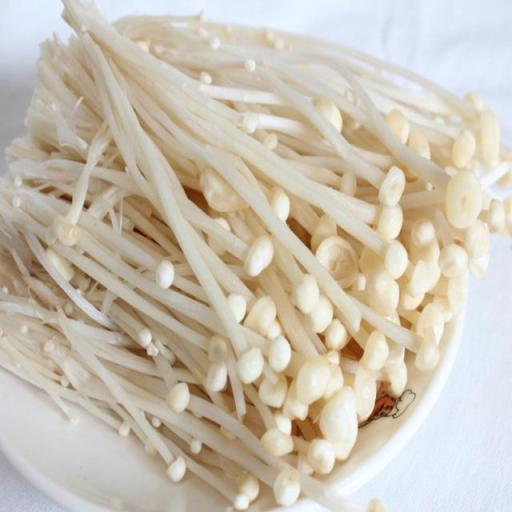Enoki Mushroom: (0, 4, 512, 512)
